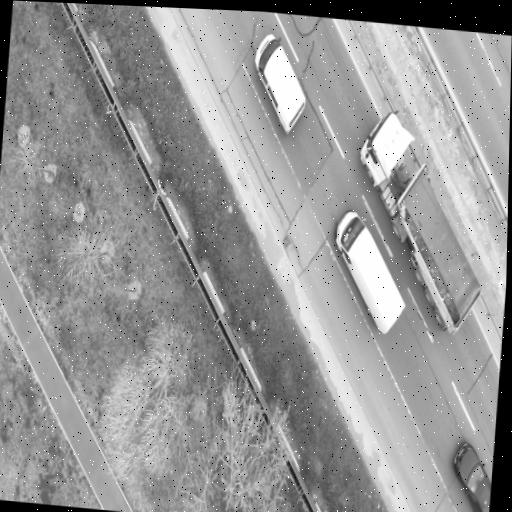car: (336, 212, 404, 333), (255, 35, 304, 133), (453, 444, 490, 511)
truck: (360, 113, 480, 333)
